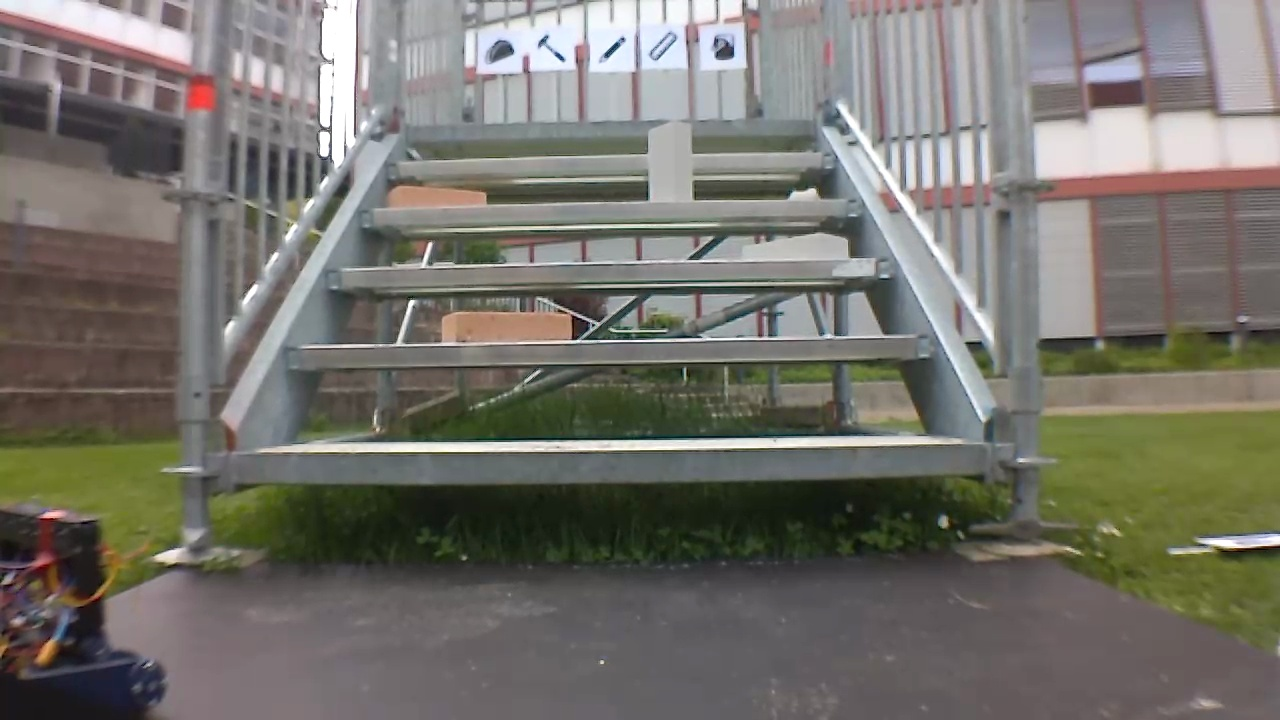brick: (439, 311, 569, 343), (646, 121, 691, 202), (388, 186, 484, 207)
bucket: (706, 28, 740, 62)
edge: (236, 443, 990, 483), (286, 336, 933, 365), (327, 257, 898, 285), (361, 198, 865, 224), (409, 116, 821, 139), (386, 152, 835, 171)
hammer: (531, 30, 568, 66)
pencil: (592, 31, 629, 68)
ruler: (645, 28, 681, 61)
stairs: (160, 2, 1058, 555)
steps: (230, 109, 999, 488)
taco: (481, 34, 516, 65)
